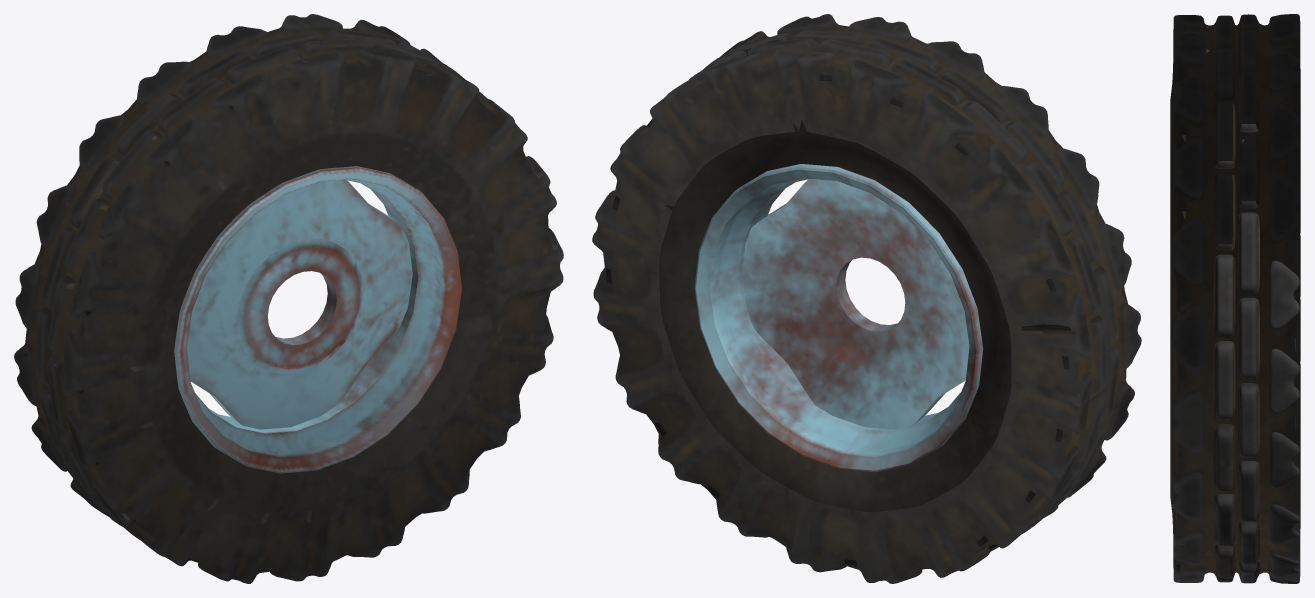
File: Wheel_Front.obj
3 renders of one model, left to right at view 1: azimuth 30°, elevation 25°; view 2: azimuth 150°, elevation 25°; view 3: azimuth 270°, elevation 25°, orthographic.
Parts seen in each view (by area): view 1: Wheel_Front; view 2: Wheel_Front; view 3: Wheel_Front.
Part boxes in pixels (x1=…): Wheel_Front: x1=14, y1=14, x2=563, y2=583; Wheel_Front: x1=592, y1=14, x2=1141, y2=583; Wheel_Front: x1=1170, y1=14, x2=1300, y2=583.
Bounding box in the file's own units: 0.996 × 0.9961 × 0.2276.
